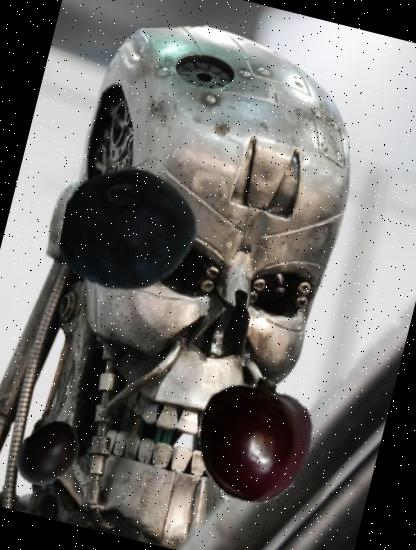Blueberry: (48, 148, 212, 312)
Cherry: (177, 366, 327, 516)
Eggplant: (3, 409, 93, 498)
